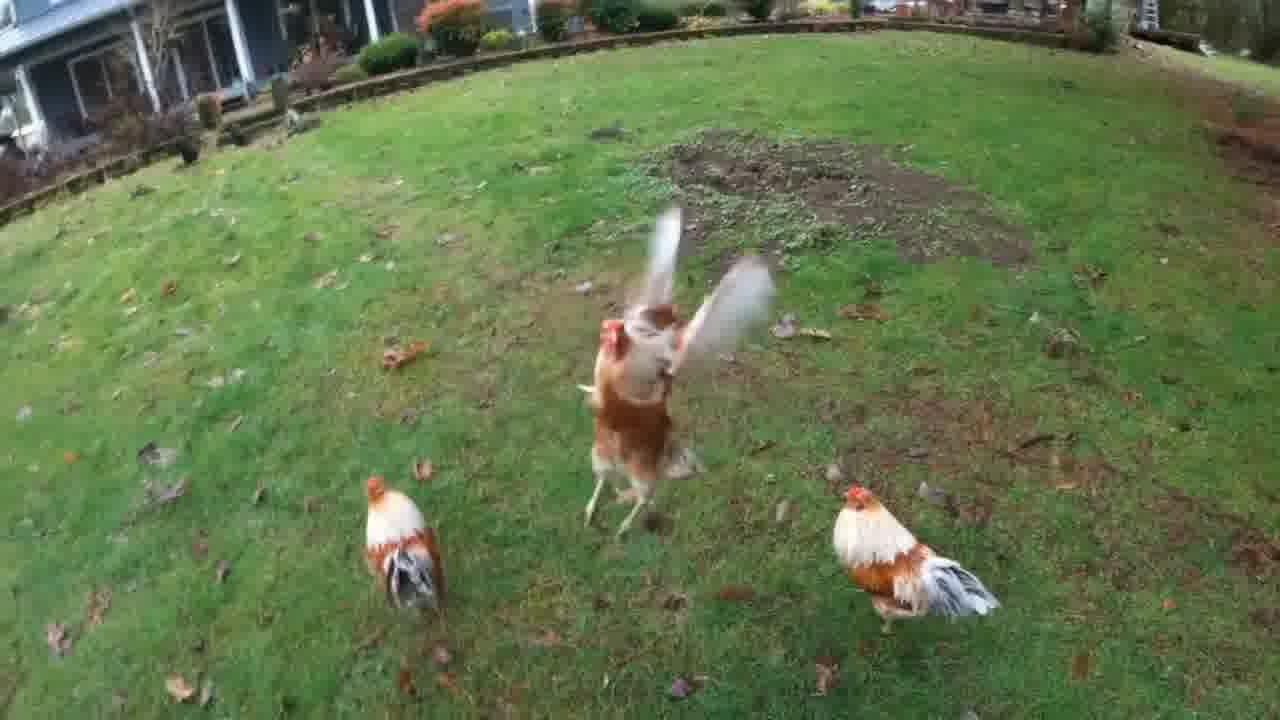Normal: (558, 206, 748, 538), (792, 462, 1008, 636), (346, 470, 478, 634)
